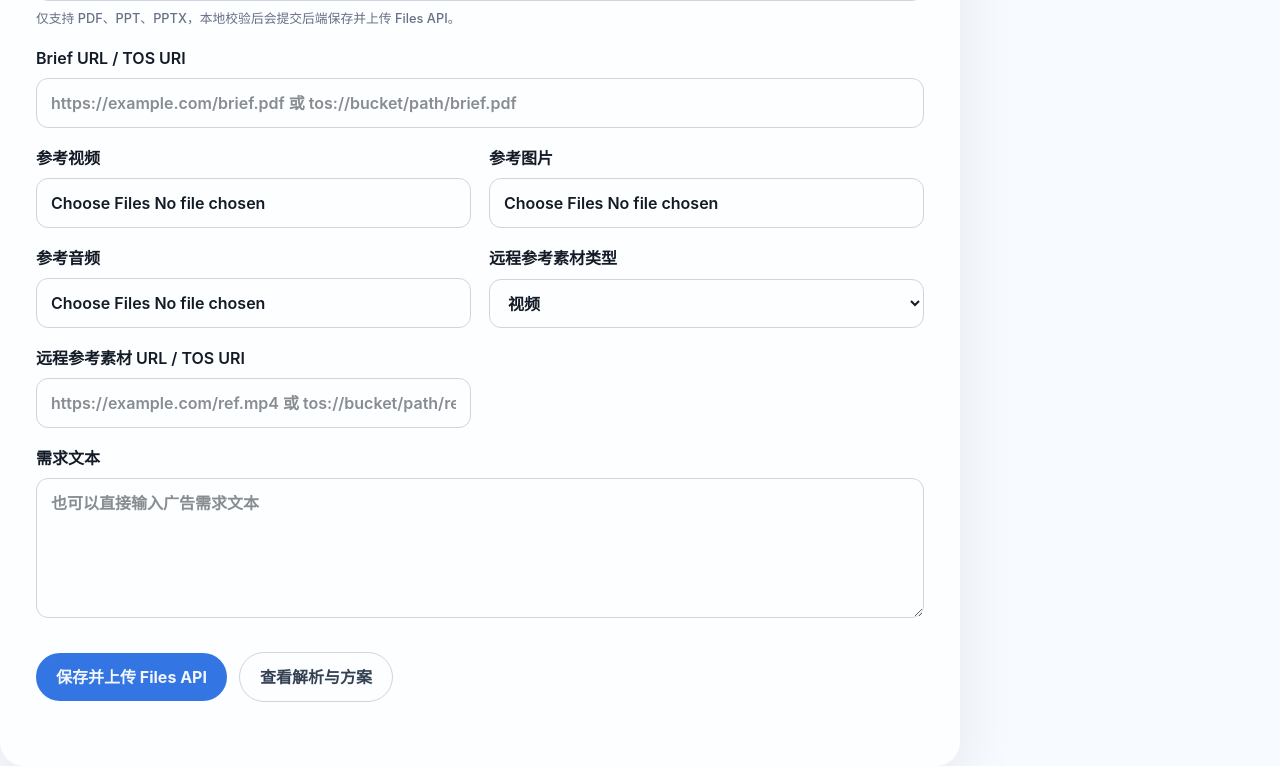
Test: BriefInputPage › PDF 文本被拒绝时不展示乱码摘要并保留视觉解析提示
The width and height of the screenshot is (1280, 766).
(page scrolled)
Type "突出年轻科技感" into the text box labelled "需求文本" at (480, 548), box [36,478,924,618]
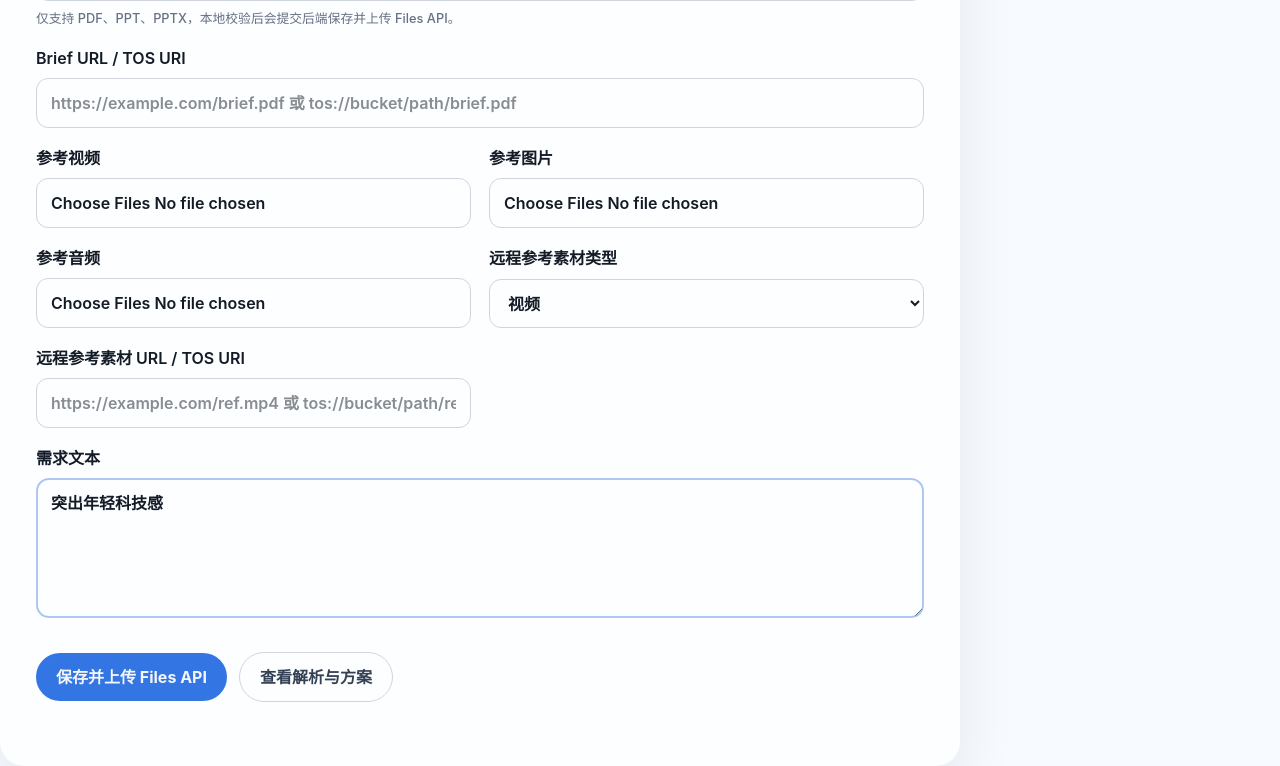
Click the button "保存并上传 Files API" at (132, 677), box [36,653,227,701]
(page scrolled)
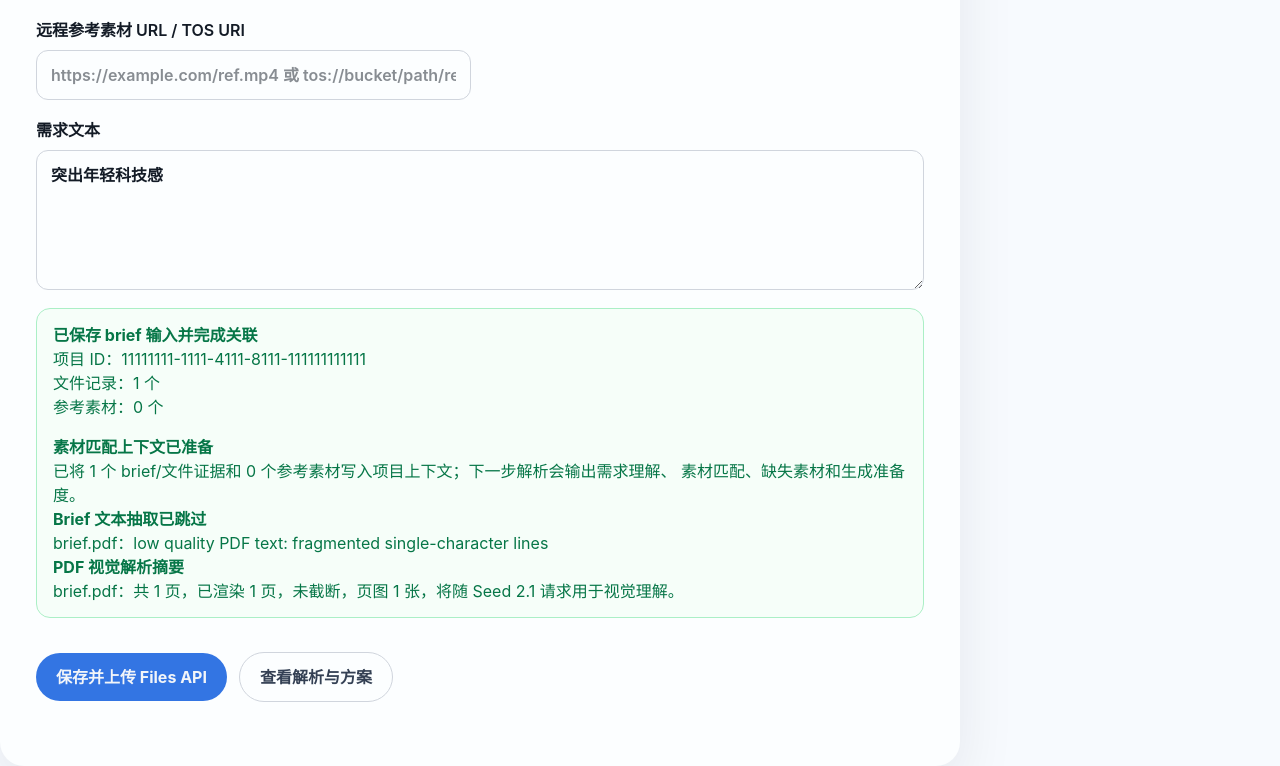
Result: the text "Brief 文本抽取已跳过" is shown at [53,509,206,529]
Result: the list item "fragmented single-character lines" is shown at [133,533,548,553]
Result: the list item "brief.pdf：共 1 页，已渲染 1 页，未截断，页图 1 张，将随 Seed 2.1 请求用于视觉理解。" is shown at [53,581,684,601]
